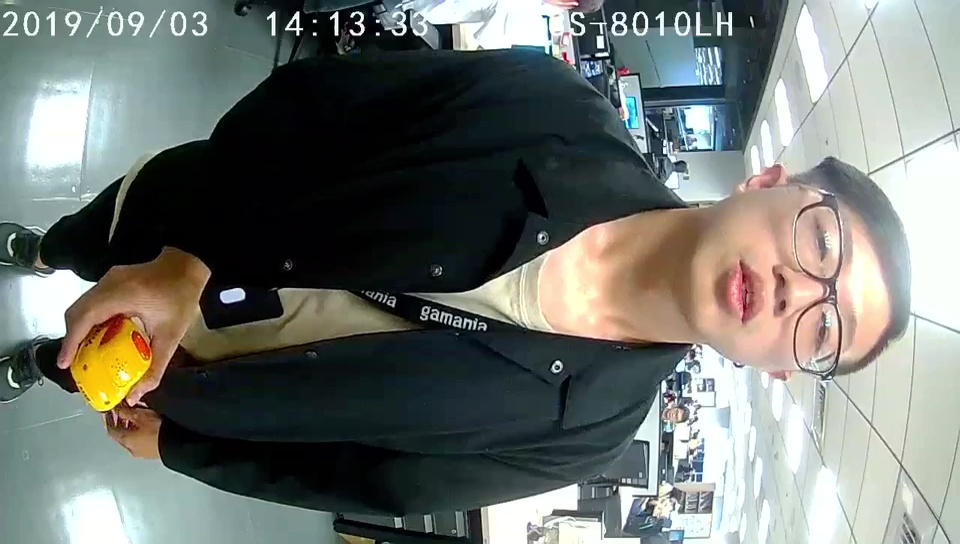car: (72, 314, 154, 411)
